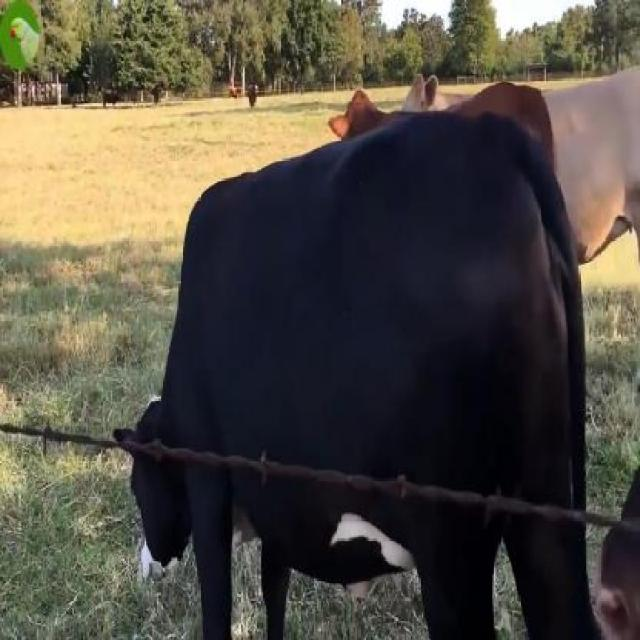Cow: (125, 116, 584, 638)
